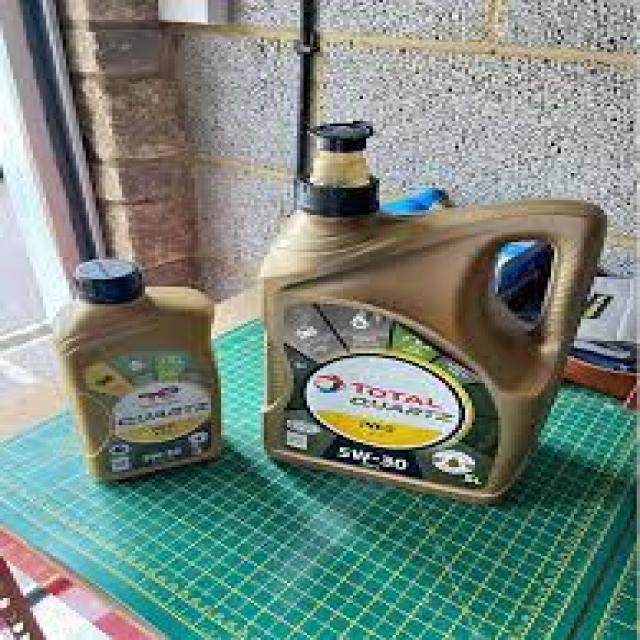motor_oil: (266, 110, 596, 503), (53, 250, 240, 476)
